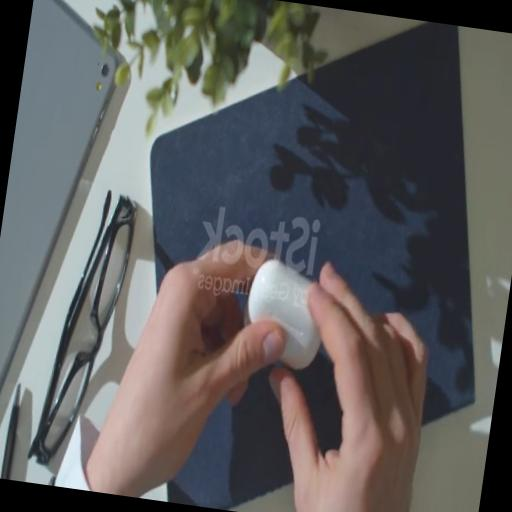earphone: (228, 255, 348, 386)
